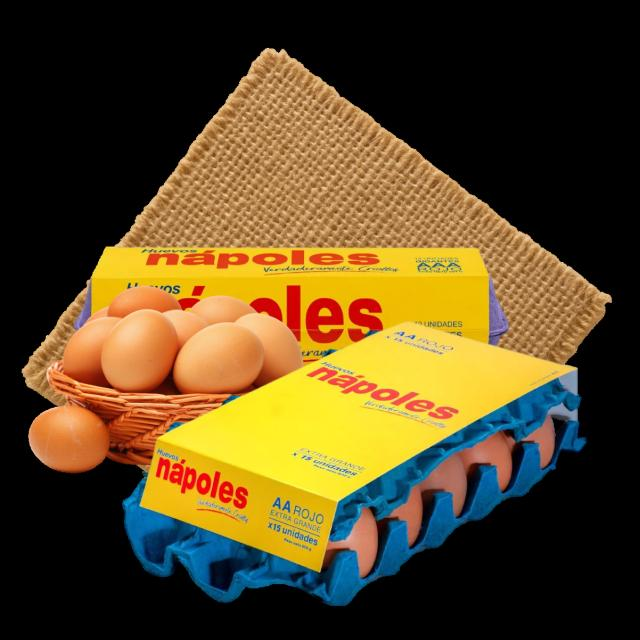huevos: (95, 310, 171, 395), (24, 406, 110, 476)
